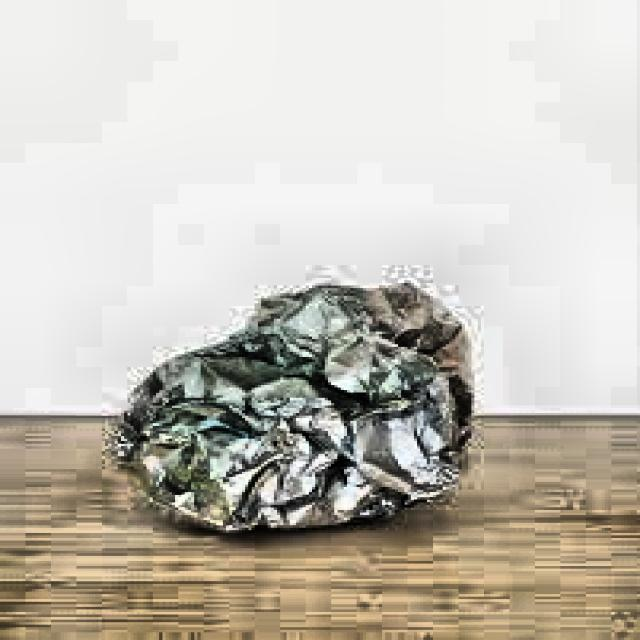Foil: (83, 267, 568, 560)
